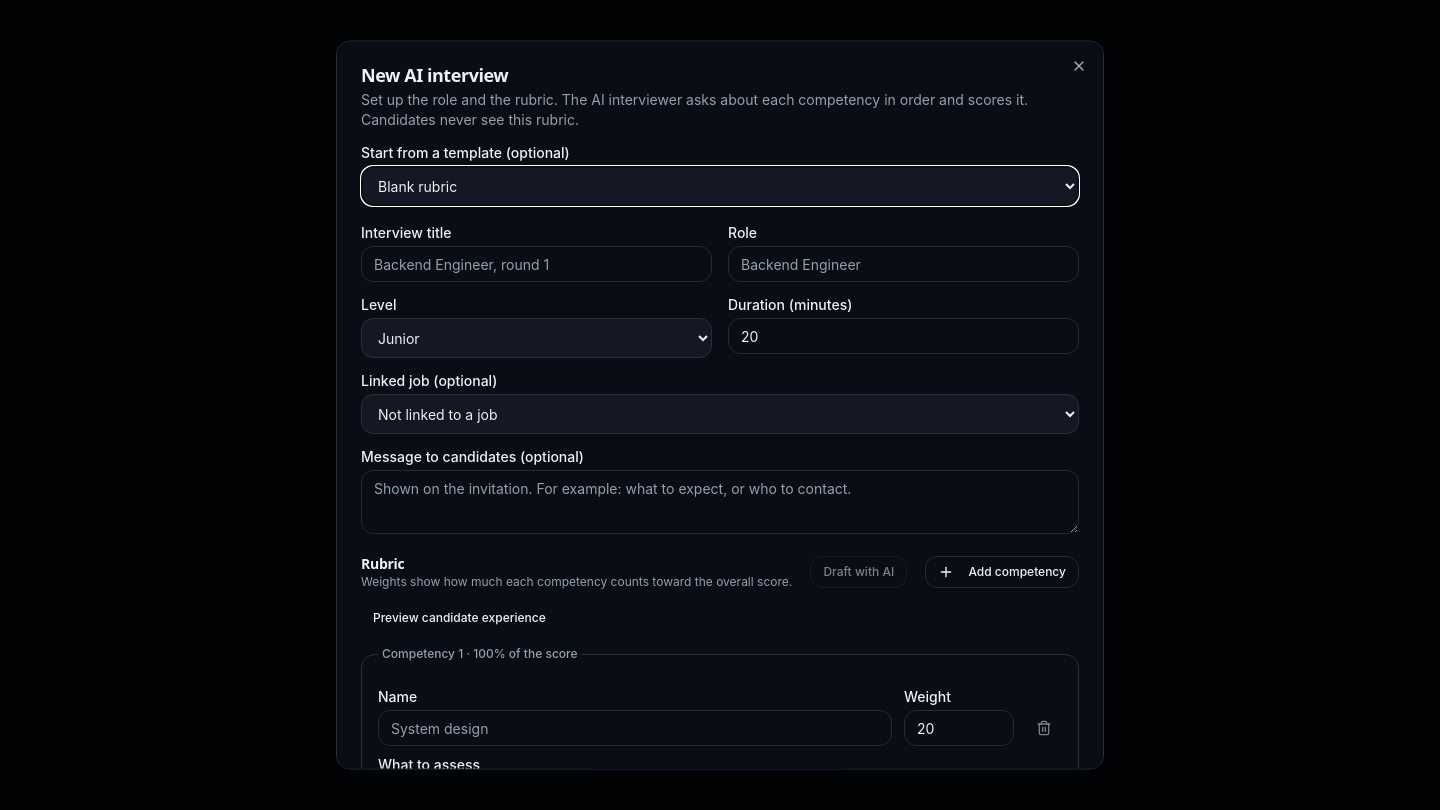
Test case: TemplateFormDialog › starting from a template fills the rubric and shows each share of the score
Select "AI / ML Engineer" in the dropdown labelled "Start from a template (optional)" at {"x": 720, "y": 186}, box [361,166,1079,206]
(page scrolled)
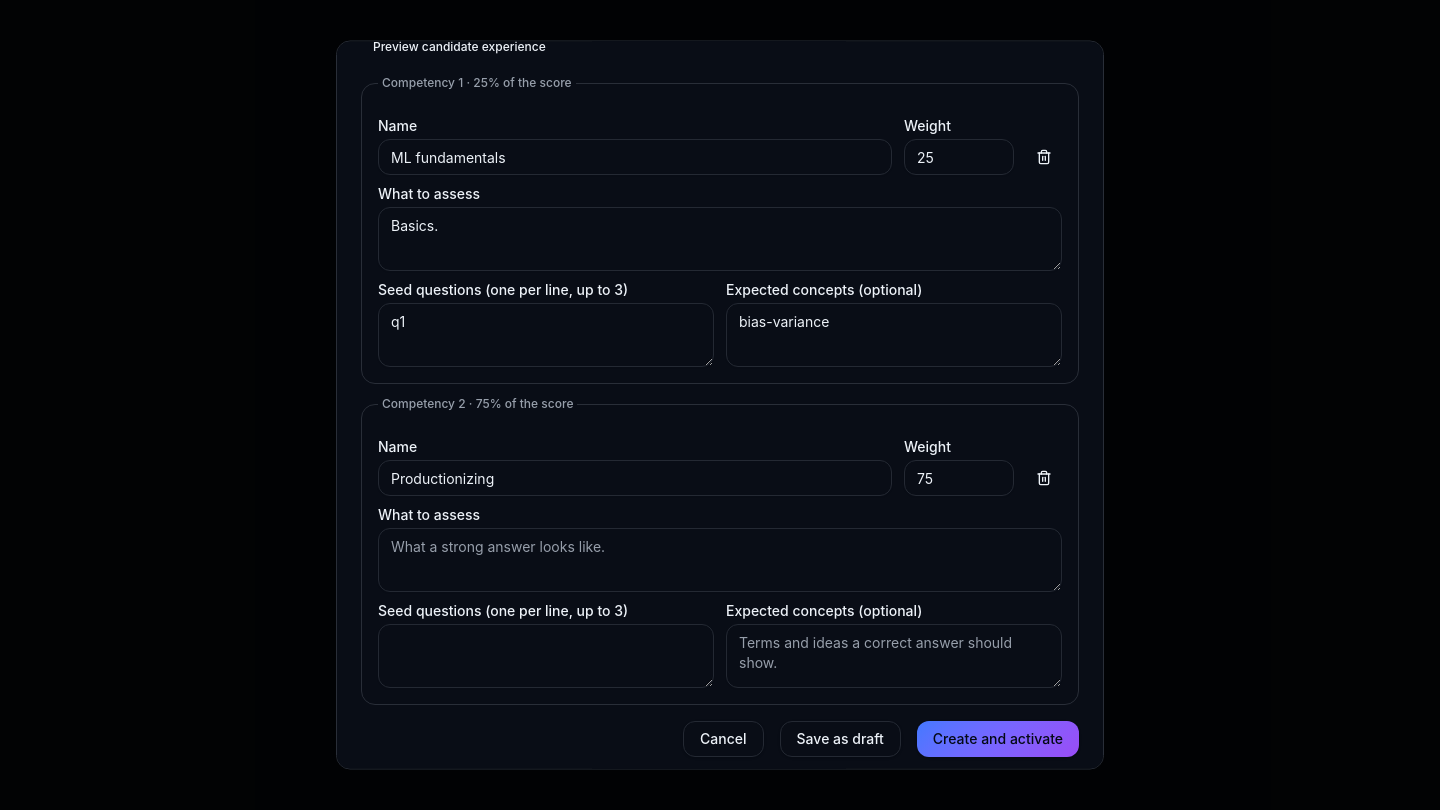
Check: the field labelled "Name" below "25" holds "ML fundamentals", box [378,140,892,176]
Check: the text "Competency 1 · 25% of the score" is shown, box [378,76,576,92]
Check: the text "Competency 2 · 75% of the score" is shown, box [378,396,577,412]
